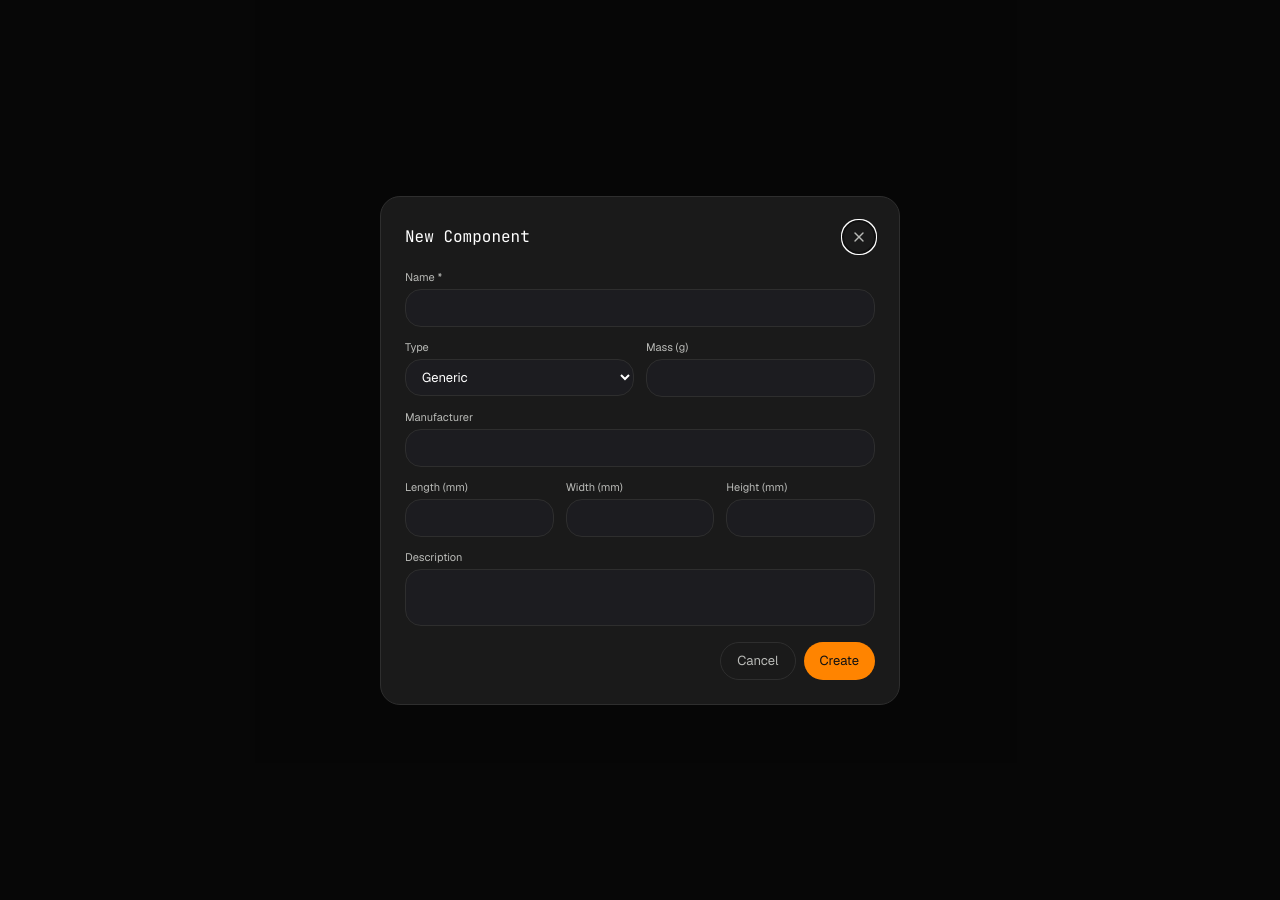
Test: ComponentEditDialog — ESC boolean spec fields (gh-1009) › renders boolean spec fields as checkboxes
Switch to ESC type
Select "ESC" in the dropdown at (520, 378), box [405,359,634,396]
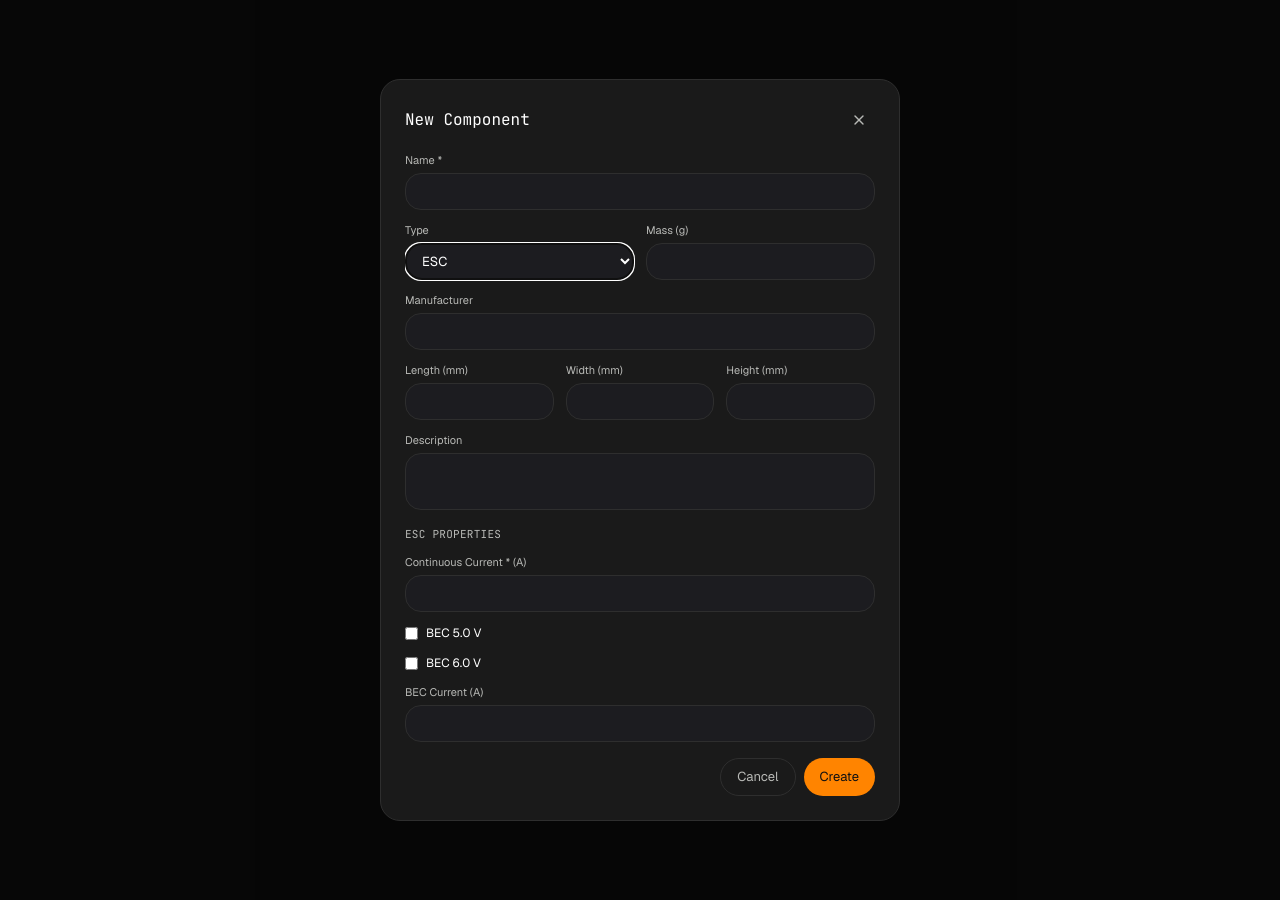
Check: the checkbox labelled "BEC 5.0 V" is shown, box [405,627,418,640]
